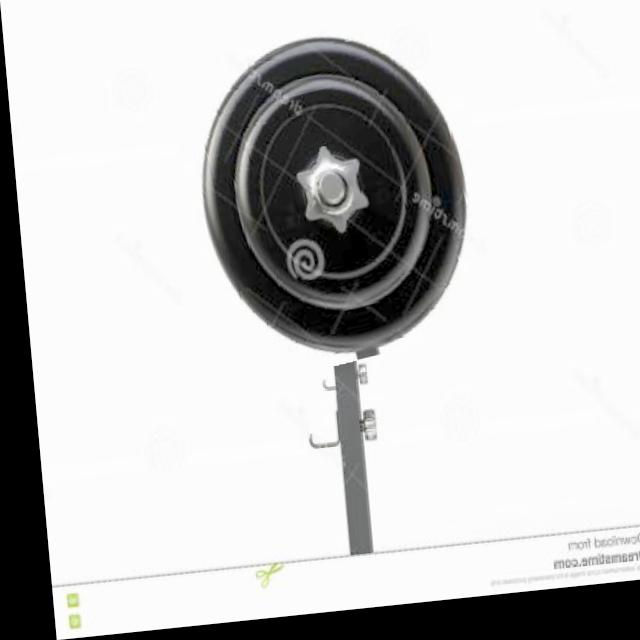barbell: (168, 10, 500, 389)
